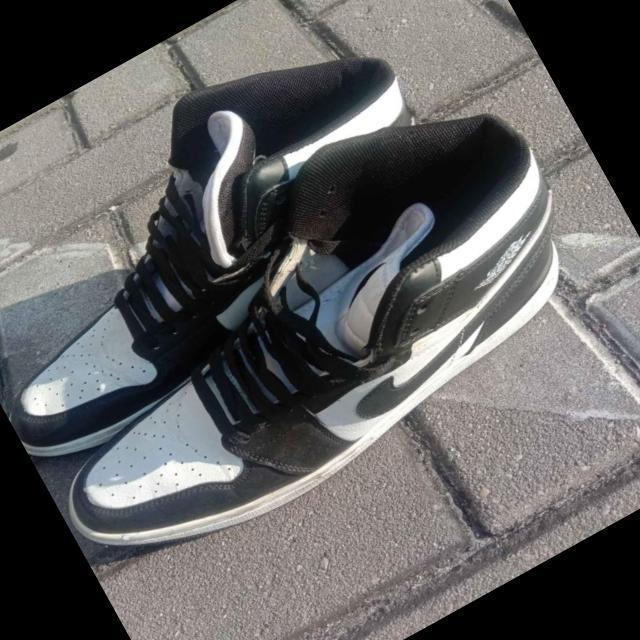nike fake jordan 1: (0, 52, 629, 601), (0, 0, 488, 477)
